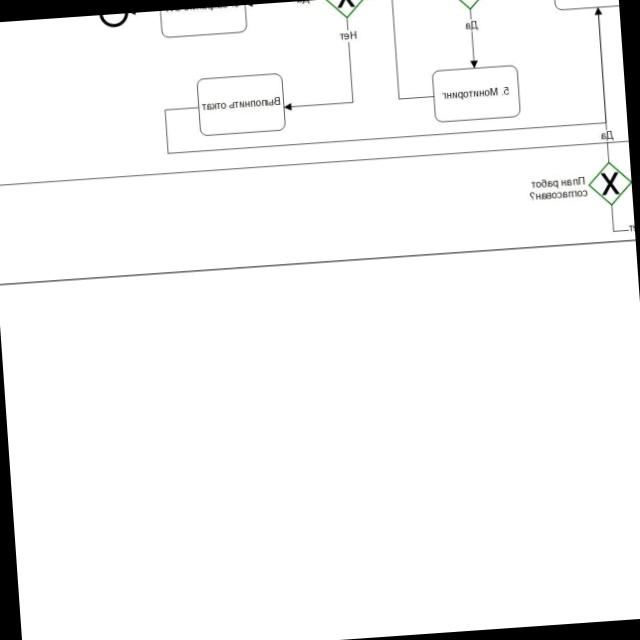arrow: (157, 7, 612, 156), (278, 16, 357, 114), (592, 7, 614, 163), (465, 8, 479, 67)
diamond: (587, 162, 632, 207)
rectangle: (195, 72, 285, 136), (432, 64, 521, 122)
text_region: (527, 173, 589, 202), (461, 17, 480, 33), (339, 29, 358, 42), (599, 127, 615, 142)
